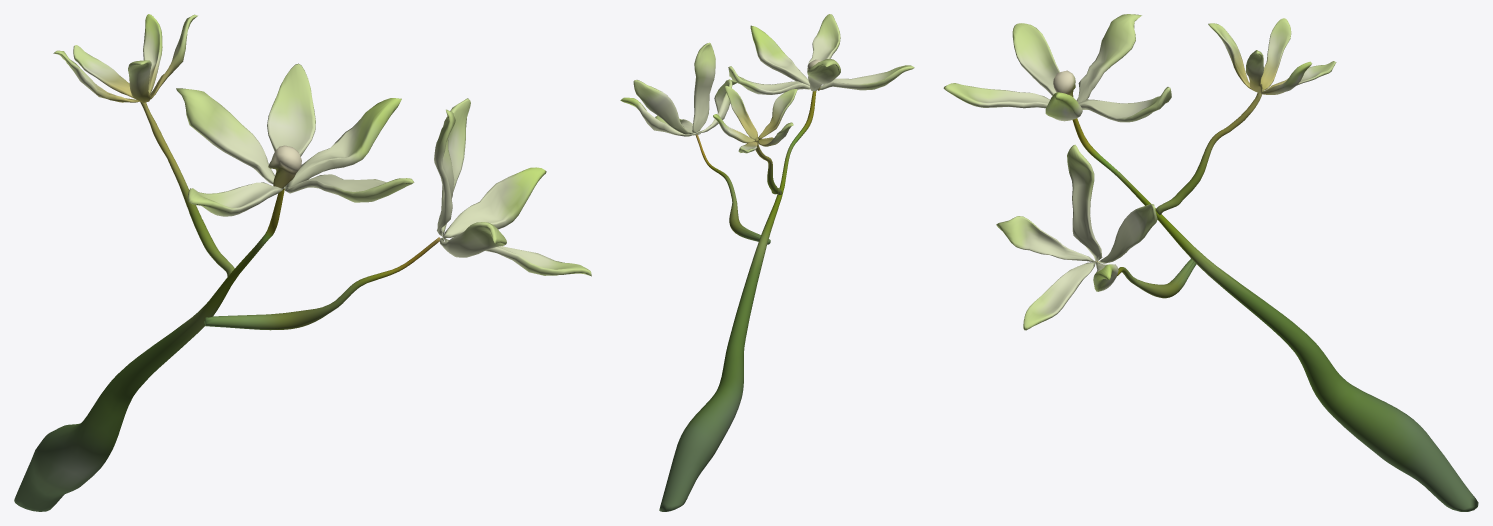
3 views of the same model, side by side, from view 1: azimuth 30°, elevation 25°; view 2: azimuth 150°, elevation 25°; view 3: azimuth 270°, elevation 25° (orthographic). The views are drawn at different scales.
Parts seen in each view (by area): view 1: LOD 2_6708565968084579216_bb9398364d468ec489d5e3c54dd32286; view 2: LOD 2_6708565968084579216_bb9398364d468ec489d5e3c54dd32286; view 3: LOD 2_6708565968084579216_bb9398364d468ec489d5e3c54dd32286.
Boxes of the visible parts, x1,y1,x2,y2 form: LOD 2_6708565968084579216_bb9398364d468ec489d5e3c54dd32286: [14, 14, 591, 511]; LOD 2_6708565968084579216_bb9398364d468ec489d5e3c54dd32286: [620, 14, 914, 511]; LOD 2_6708565968084579216_bb9398364d468ec489d5e3c54dd32286: [943, 14, 1478, 511].
Size of the model in its own units: 7.96 by 10.64 by 10.92.
